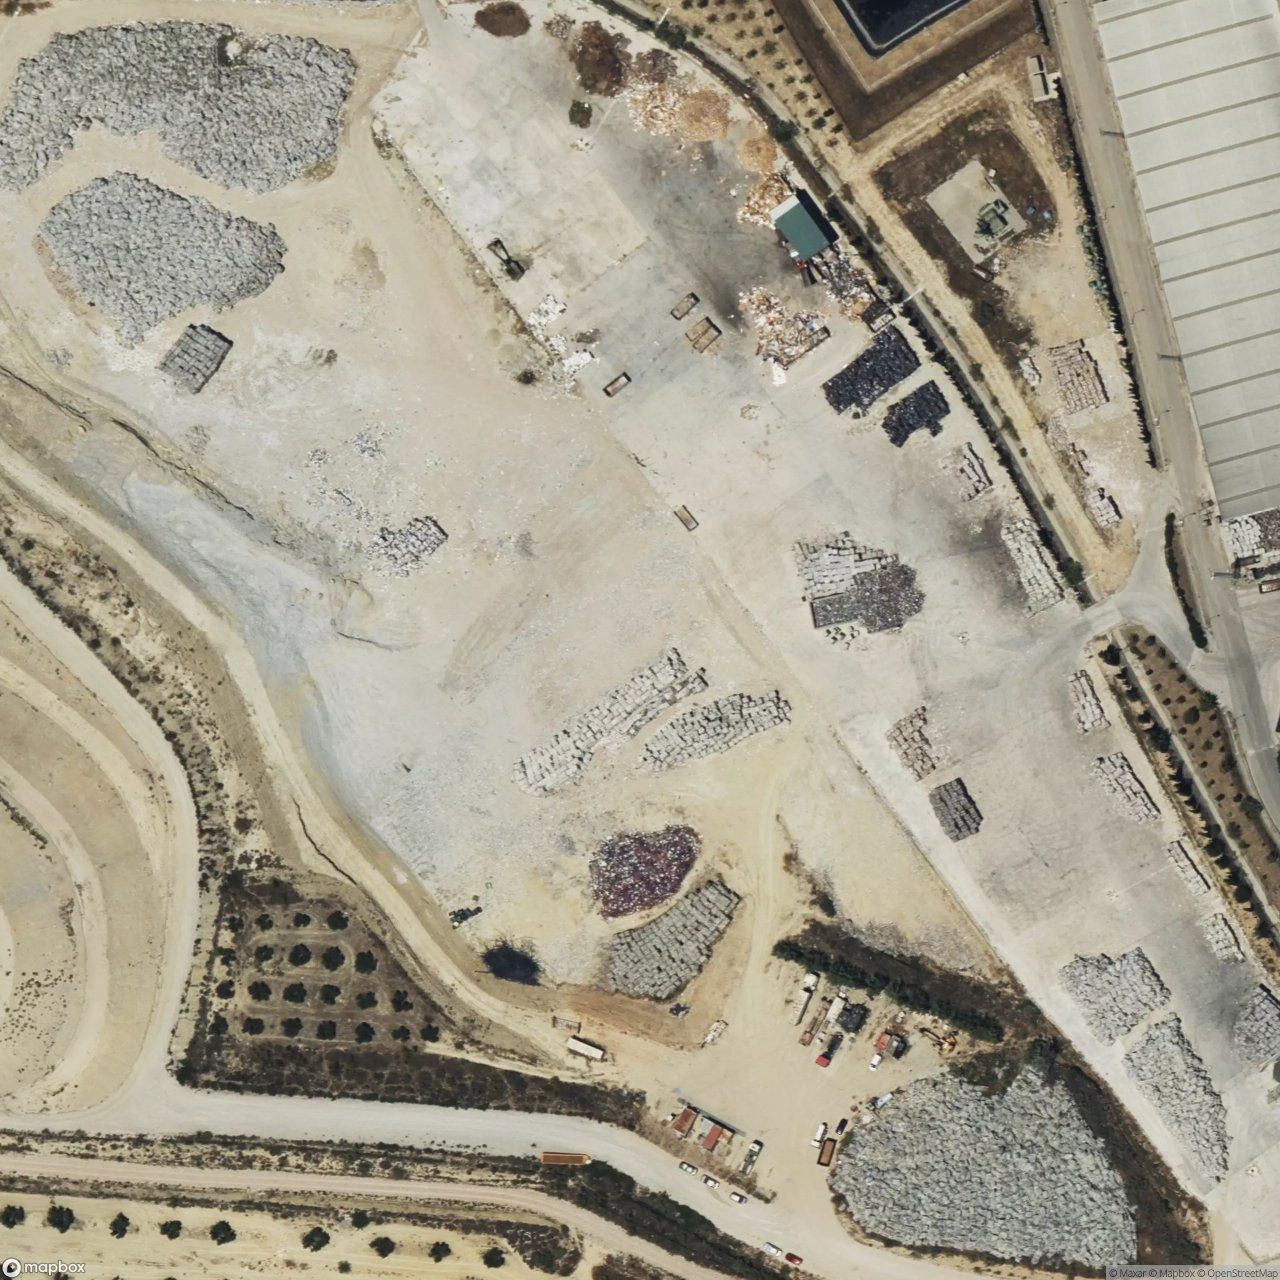dump_site: (819, 1054, 1137, 1279), (0, 22, 363, 200), (19, 163, 300, 355), (1124, 1016, 1240, 1183), (723, 272, 836, 377)
